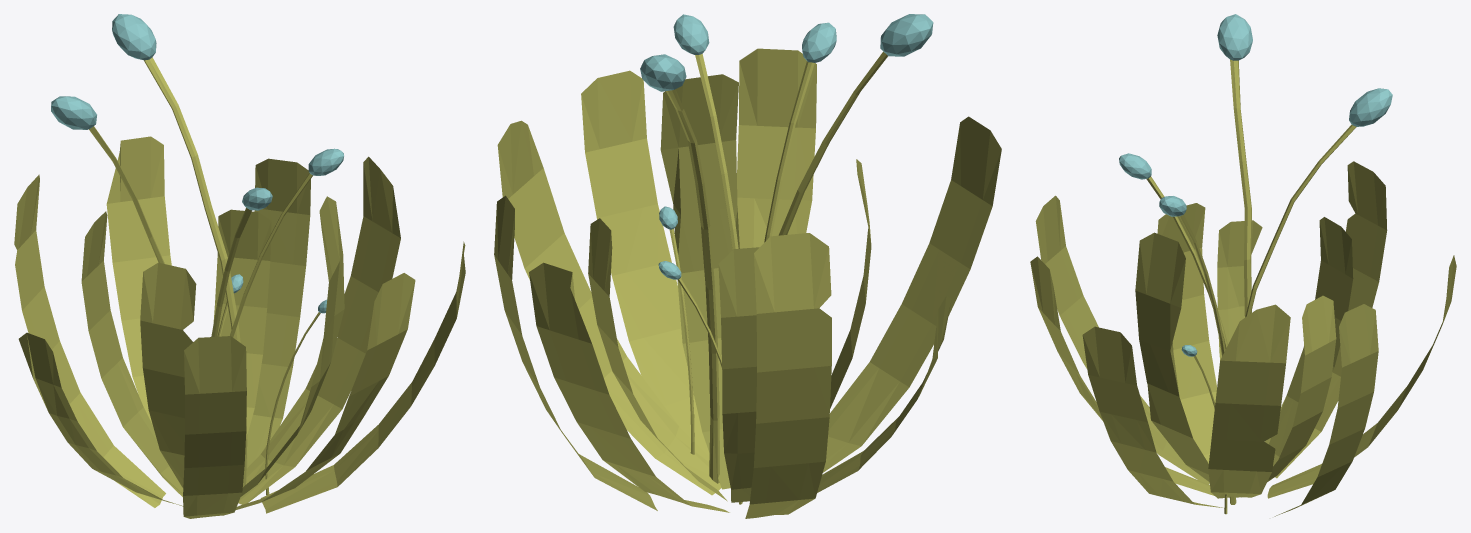
File: SFHW_Plant_011.fbx
3 views of the same model, side by side, from view 1: azimuth 30°, elevation 25°; view 2: azimuth 150°, elevation 25°; view 3: azimuth 270°, elevation 25° (orthographic). The views are drawn at different scales.
Visible parts, largest first — view 1: SFHW_Plant_011; view 2: SFHW_Plant_011; view 3: SFHW_Plant_011.
Boxes of the visible parts, x1,y1,x2,y2 form: SFHW_Plant_011: [14, 14, 465, 518]; SFHW_Plant_011: [494, 14, 1001, 518]; SFHW_Plant_011: [1030, 14, 1456, 516].
Bounding box in the file's own units: 34.47 × 39.18 × 37.05.
